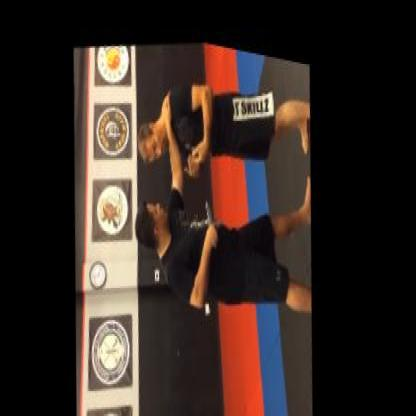knife: (202, 184, 224, 241)
